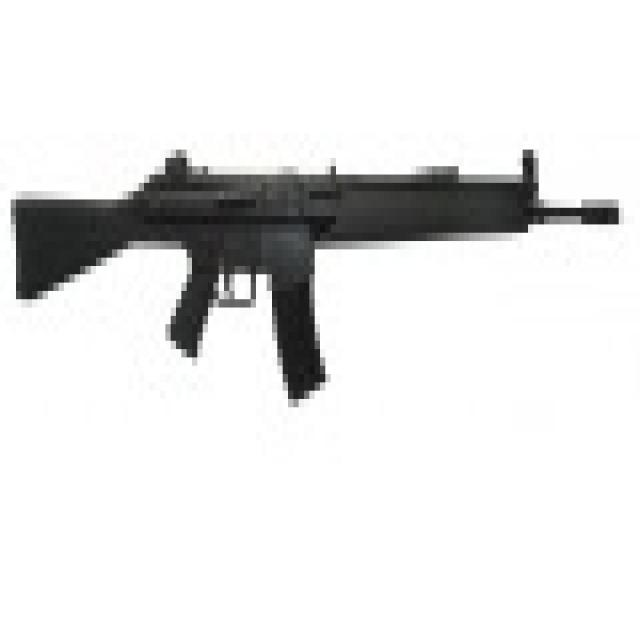Gun: (7, 119, 627, 432)
